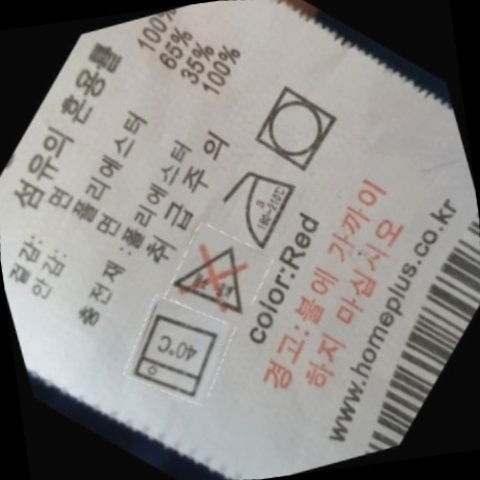40C: (117, 292, 244, 416)
iron_high: (212, 146, 318, 258)
non_chlorine_bleach: (161, 221, 273, 333)
tumble_dry_normal: (233, 59, 365, 196)
